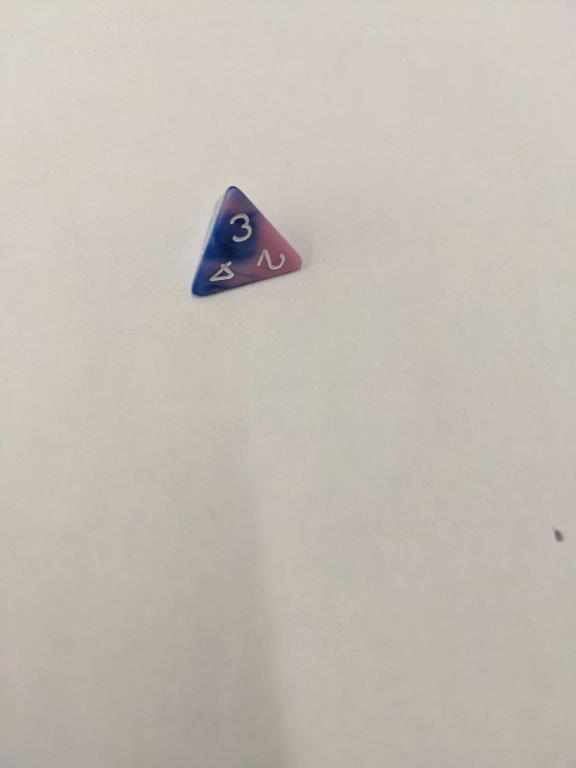d4-3: (189, 182, 304, 300)
